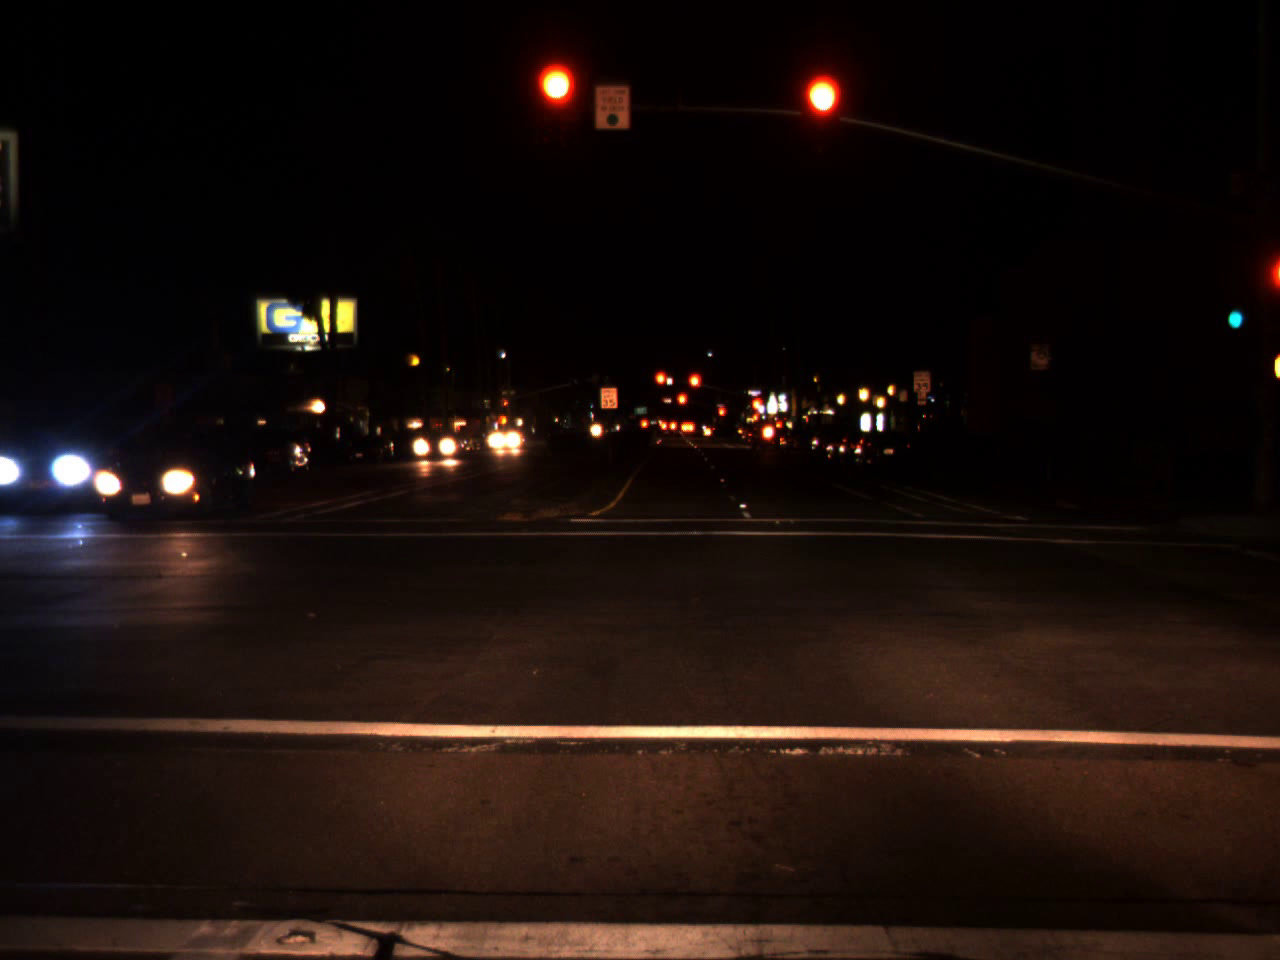stop: (537, 64, 577, 142), (804, 76, 840, 151), (653, 369, 671, 401), (686, 371, 702, 403), (675, 391, 688, 418), (749, 396, 764, 412), (717, 406, 727, 427), (502, 400, 508, 410)
